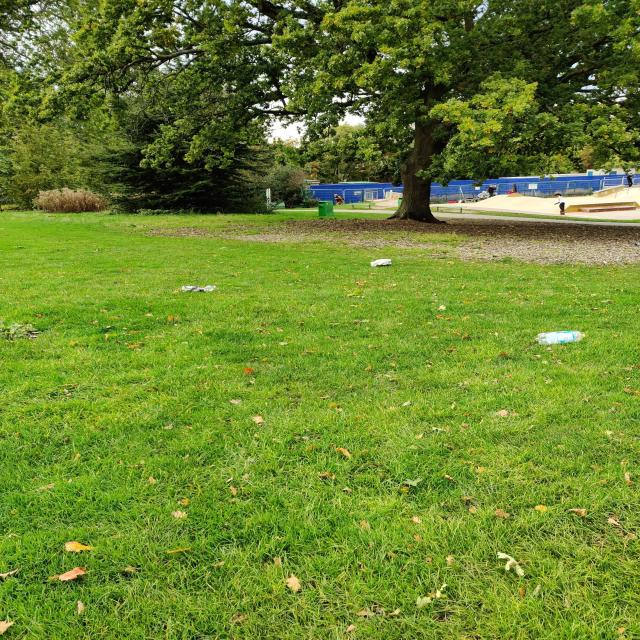litter: (534, 330, 585, 345), (369, 258, 391, 268), (182, 285, 215, 291)
